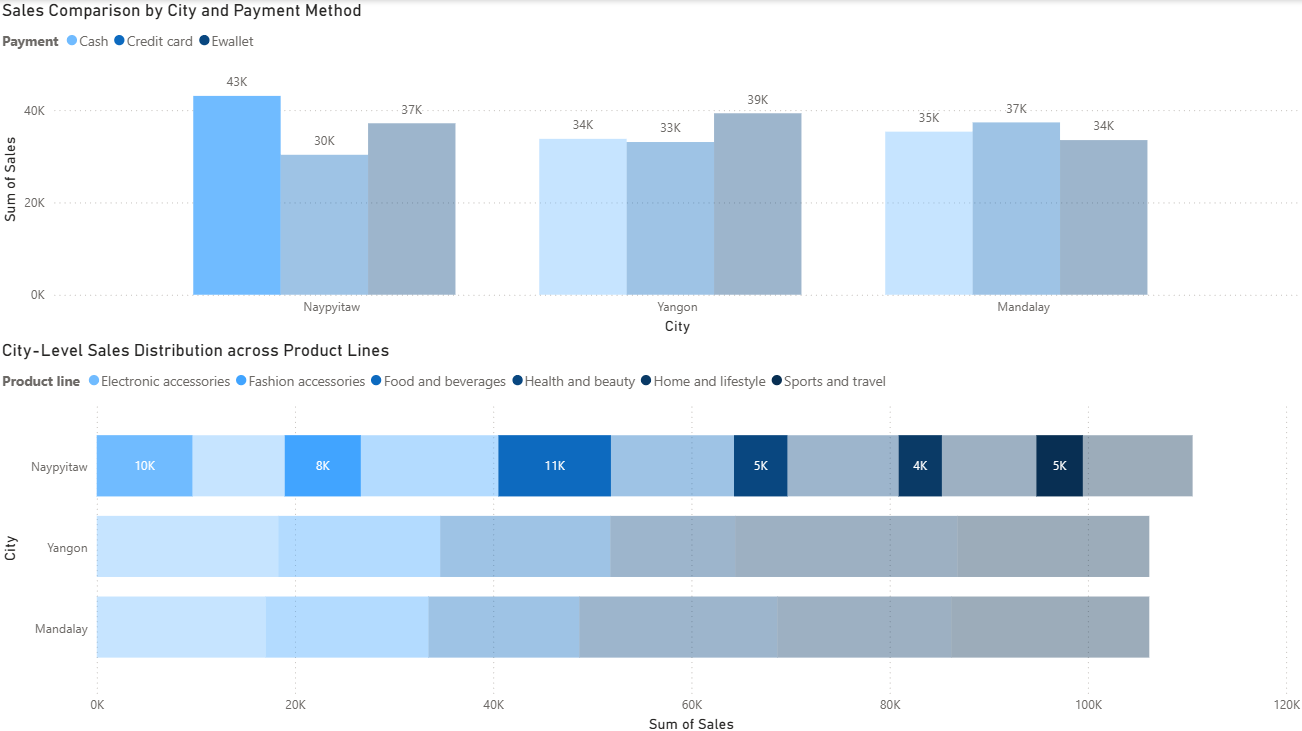

This screenshot's page, from the dashboard's own definition file:
{"tool":"powerbi","page":{"name":"Payment and Consumer purchasing trend","canvas":[1280,720],"ordinal":1},"visuals":[{"type":"barChart","title":"City-Level Sales Distribution across Product Lines","fields":{"Category":["SuperMarket Analysis.City"],"Y":["Sum(SuperMarket Analysis.Sales)"],"Series":["SuperMarket Analysis.Product line"]},"box":[0,332.1,1280.3,388.3],"z":0},{"type":"clusteredColumnChart","title":"Sales Comparison by City and Payment Method","fields":{"Category":["SuperMarket Analysis.City"],"Y":["Sum(SuperMarket Analysis.Sales)"],"Series":["SuperMarket Analysis.Payment"]},"box":[0,0,1280.3,332.1],"z":1000}]}

Visuals, with their boxes in screenshot pixels (x1, y1, x2, y2), scaled from the page's 1280x720 canvas onto the 1302x731 screenshot:
"City-Level Sales Distribution across Product Lines" barChart: <bbox>0, 337, 1301, 730</bbox>
"Sales Comparison by City and Payment Method" clusteredColumnChart: <bbox>0, 0, 1301, 337</bbox>
